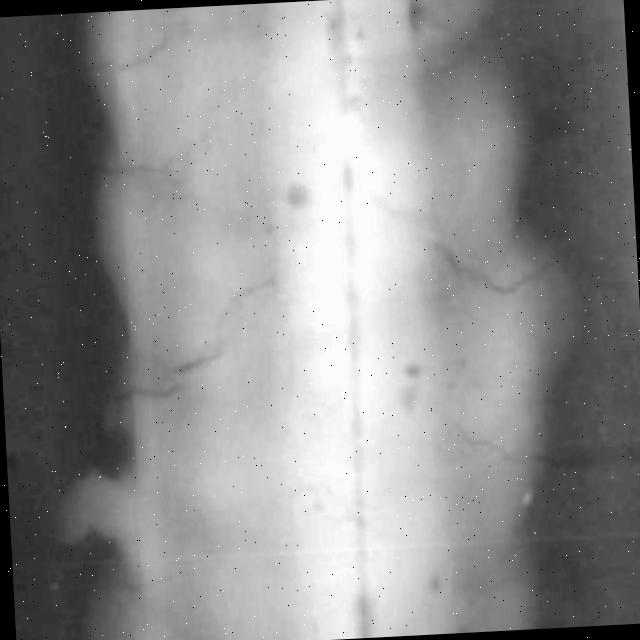Crack: (109, 257, 295, 423), (417, 220, 544, 322), (421, 410, 543, 503), (107, 127, 216, 206), (99, 23, 188, 80)
LoP-LoF: (304, 8, 402, 633)
